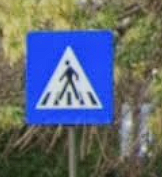trecere_pietoni: (23, 30, 117, 127)
